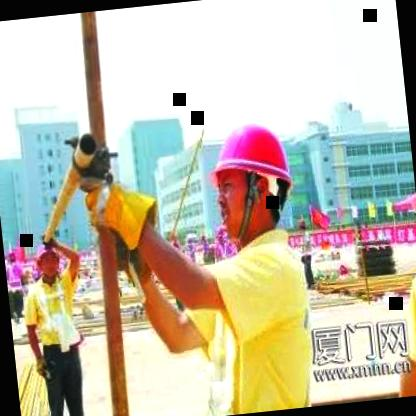helmet: (202, 108, 301, 244), (26, 236, 63, 284)
